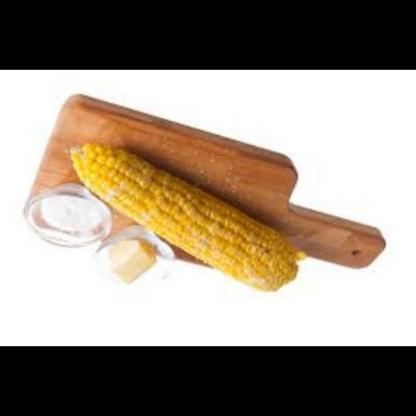corn: (64, 141, 304, 297)
